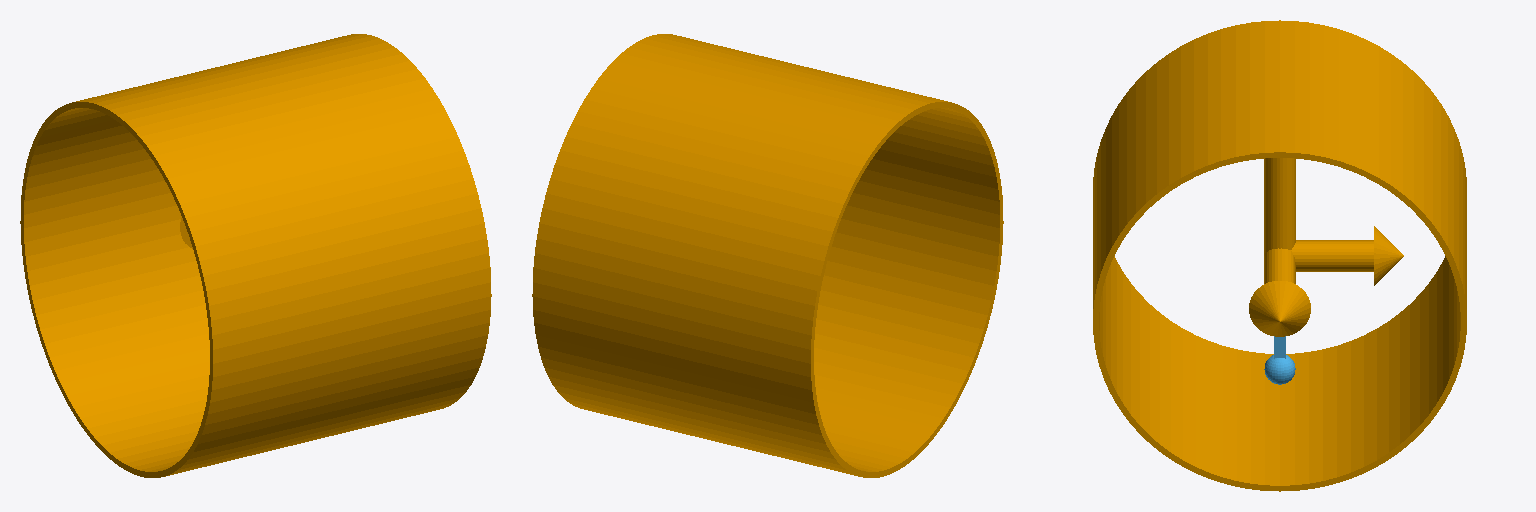
URDF robot description (cylinder):
<?xml version="1.0" ?>
<robot xmlns:xacro="http://www.ros.org/wiki/xacro" name="cylinder">

    <link name="cylinder">
        <inertial>
            <origin xyz="0.0 0.0 0.0" rpy="0 0 0"/>
            <mass value="1.0"/>
            <inertia ixx="0.065" ixy="0.0" ixz="0.0" iyy="0.089" iyz="0.0" izz="0.065"/>
        </inertial>

        <visual>
            <origin xyz="0.0 0.0 0.0" rpy="0.0 0.0 0.0"/>
            <geometry>
                <mesh filename="./meshes/cylinder_aligned/cylinder_aligned.obj" scale="1 1 1"/>
            </geometry>
        </visual>

        <collision>
            <origin xyz="0.0 0.0 0.0" rpy="0.0 0.0 -1.57"/>
            <geometry>
                <mesh filename="./meshes/cylinder_collision/cylinder_collision.obj" scale="1 1 1"/>
            </geometry>
        </collision>
    </link>

    <link name="load">
        <inertial>
            <origin xyz="0.0 0.0 -0.2" rpy="0 0 0"/>
            <mass value="0.505"/>
            <inertia ixx="1.263e-4" ixy="0.0" ixz="0.0" iyy="1.263e-4" iyz="0.0" izz="1.263e-4"/>
        </inertial>

        <visual>
            <origin xyz="0.0 0.0 -0.2" rpy="0.0 0.0 0.0"/>
            <geometry>
                <mesh filename="./meshes/load/load.obj" scale="1 1 1"/>
            </geometry>
        </visual>

        <collision>
            <origin xyz="0.0 0.0 -0.2" rpy="0.0 0.0 0.0"/>
            <geometry>
                <mesh filename="./meshes/load/load.obj" scale="1 1 1"/>
            </geometry>
        </collision>
    </link>

    <joint name="cylinder_to_load" type="revolute">
        <origin xyz="0.0 0.0 0.0" rpy="0.0 0.0 0.0"/>
        <parent link="cylinder"/>
        <child link="load"/>
        <axis xyz="1.0 0.0 0.0"/>
        <limit lower="-3.14" upper="3.14" effort="0.0" velocity="0.0"/>
    </joint>

</robot>

--- Render facts (derived) ---
Views: 3 orthographic renders of the robot side by side, from view 1: azimuth 30°, elevation 25°; view 2: azimuth 150°, elevation 25°; view 3: azimuth 270°, elevation 25°.
Robot: cylinder — 2 links, 1 joints (1 revolute); root link cylinder; default pose: all joints at 0.
Links seen in each view (by area): view 1: cylinder; view 2: cylinder; view 3: cylinder, load.
Link boxes in pixels (x1=…): cylinder: x1=20, y1=34, x2=491, y2=477; cylinder: x1=532, y1=34, x2=1003, y2=477; cylinder: x1=1093, y1=20, x2=1466, y2=491; load: x1=1264, y1=336, x2=1295, y2=384.
Size in the robot's own frame: 0.5 by 0.5999 by 0.6 metres.
2 mesh visuals loaded from 2 distinct referenced files (2 OBJ).
